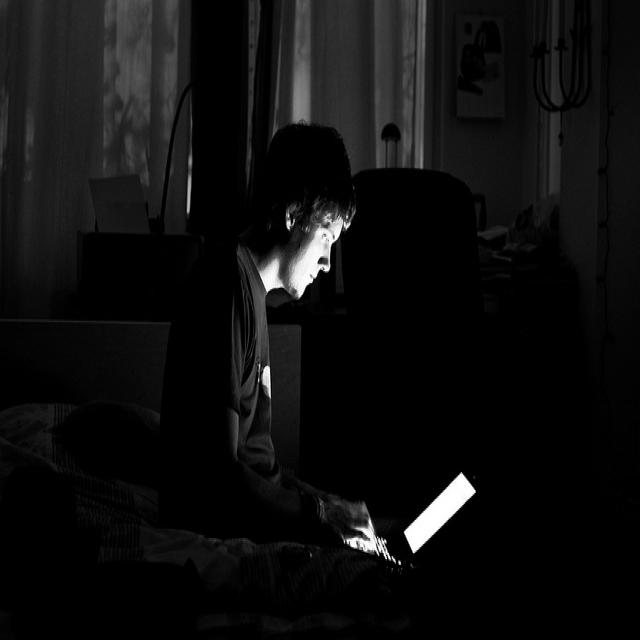People: (155, 118, 368, 599)
chair: (358, 123, 477, 433)
